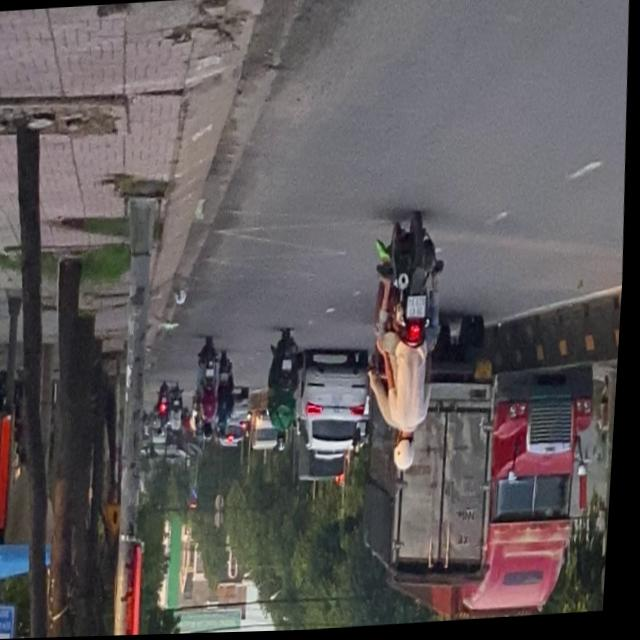helmet: (399, 435, 424, 475)
licenseplate: (364, 212, 459, 478)
nohelmet: (411, 299, 431, 321)
